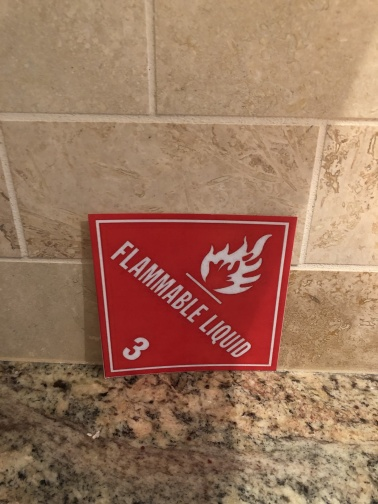FlammableLiquid: (82, 202, 289, 372)
